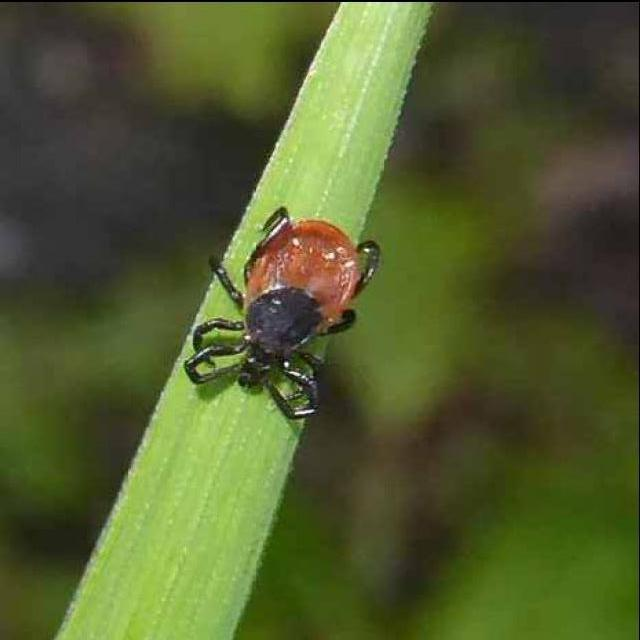Ixodes Ricinus-F: (186, 206, 384, 420)
